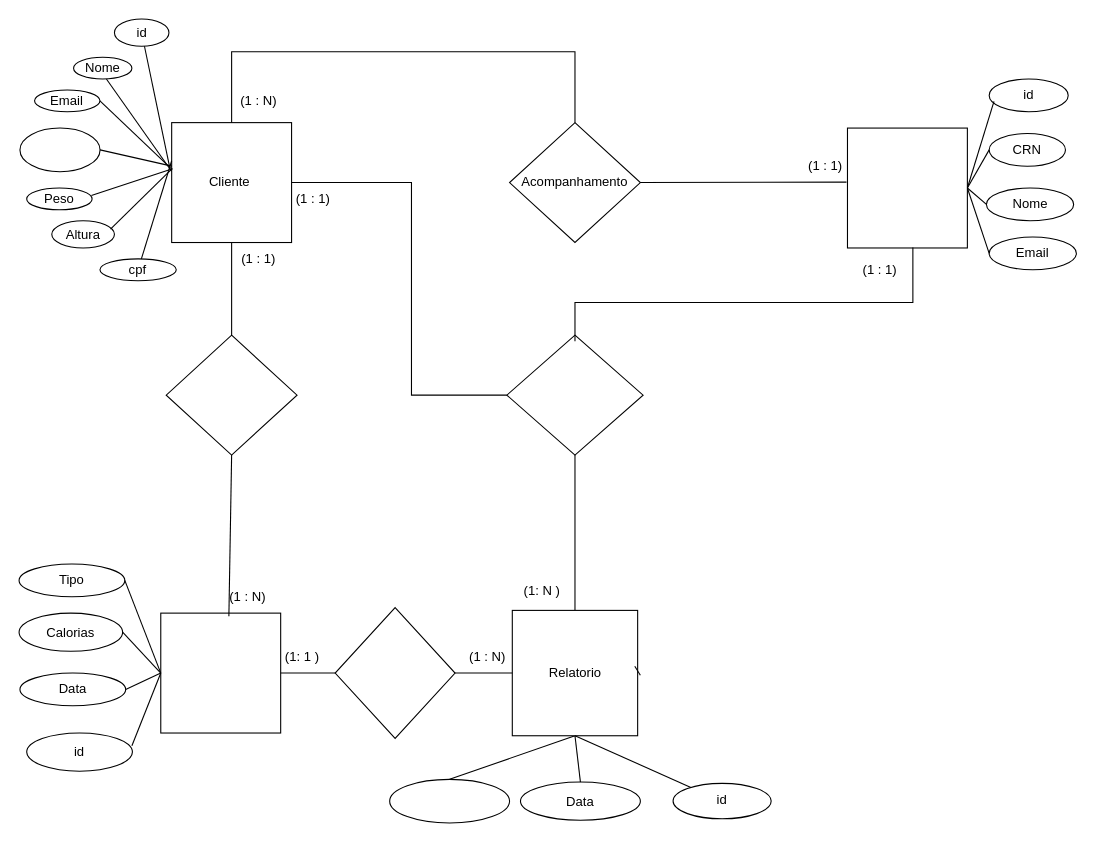
The diagram is 1095 pixels wide and 851 high, and some of its shapes have lost their labels. Each missing label, with the centre of its shape:
"Data de nascimento" goes at [59,149].
"Monitorar" goes at [574,394].
"Nutricionista" goes at [906,187].
"prescrição" goes at [449,800].
"Refeição" goes at [220,672].
"Registrar progresso" goes at [394,672].
"Registro de refeição" goes at [231,394].
